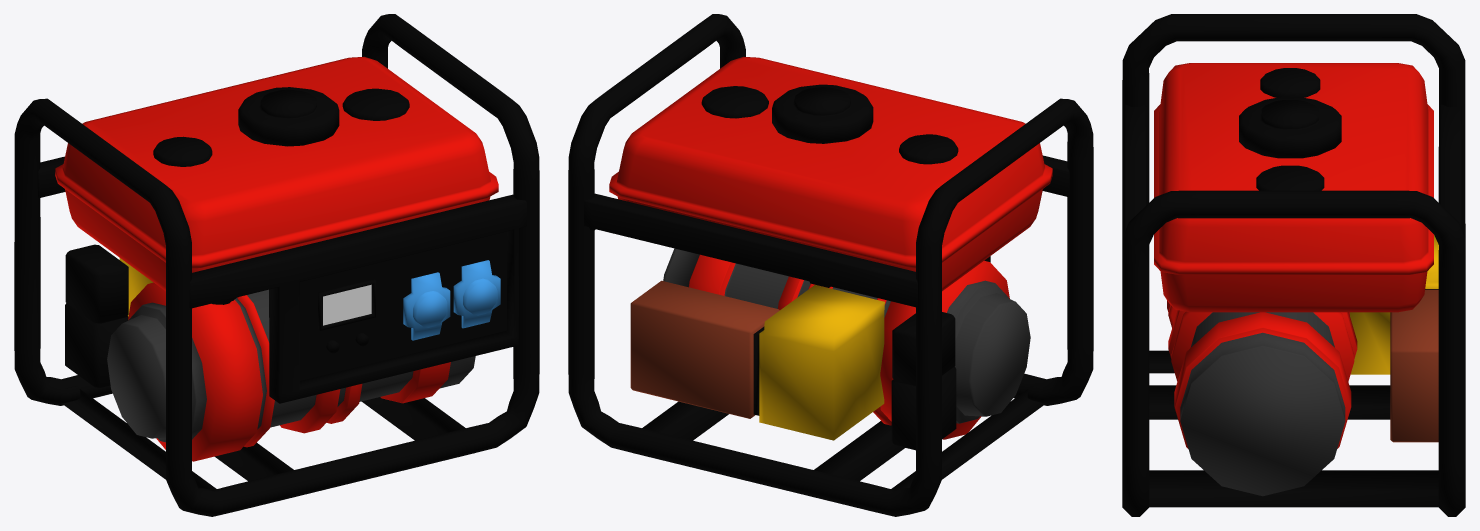
Rendered from generator.glb.
3 renders of one model, left to right at view 1: azimuth 30°, elevation 25°; view 2: azimuth 150°, elevation 25°; view 3: azimuth 270°, elevation 25°, orthographic. The views are drawn at different scales.
Parts seen in each view (by area): view 1: Cube; view 2: Cube; view 3: Cube.
Boxes of the visible parts, x1,y1,x2,y2 form: Cube: (14,14,539,516); Cube: (568,14,1093,516); Cube: (1122,14,1465,516).
Bounding box in the file's own units: 0.9863 × 0.8361 × 0.7598.
